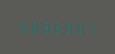eight: (28, 19, 38, 33), (39, 19, 49, 33)
five: (17, 19, 27, 33)
nine: (61, 20, 71, 34)
seven: (83, 20, 93, 34)
six: (50, 19, 60, 34)
zero: (72, 20, 82, 34)
